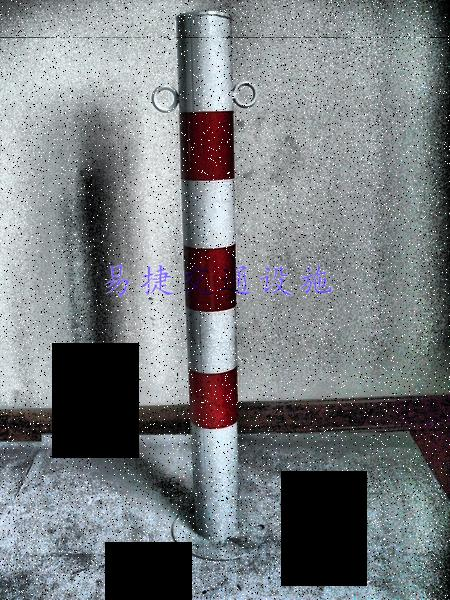bench: (172, 7, 256, 546)
